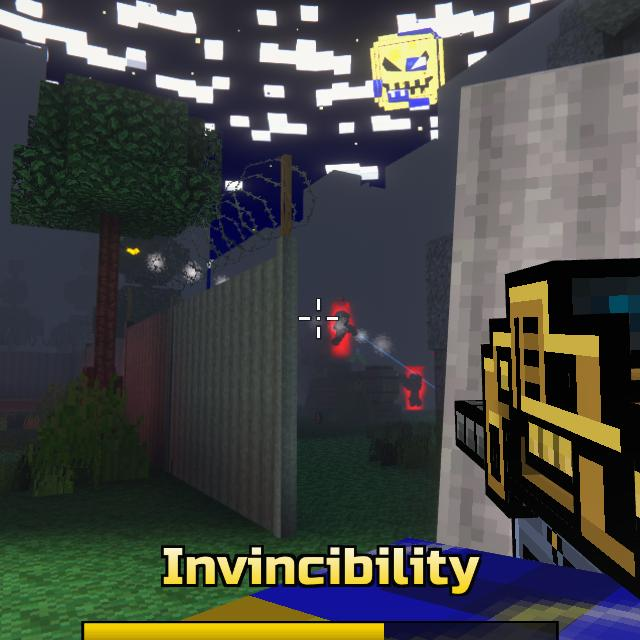Enemy: (333, 310, 355, 346), (404, 372, 424, 406)
